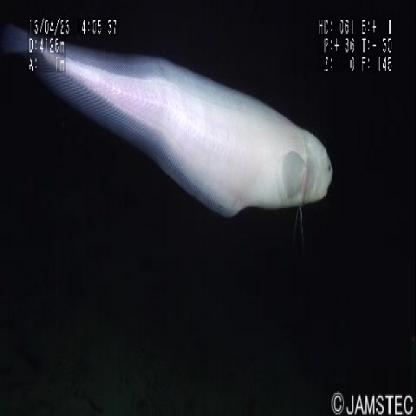Bio: (2, 20, 336, 222)
